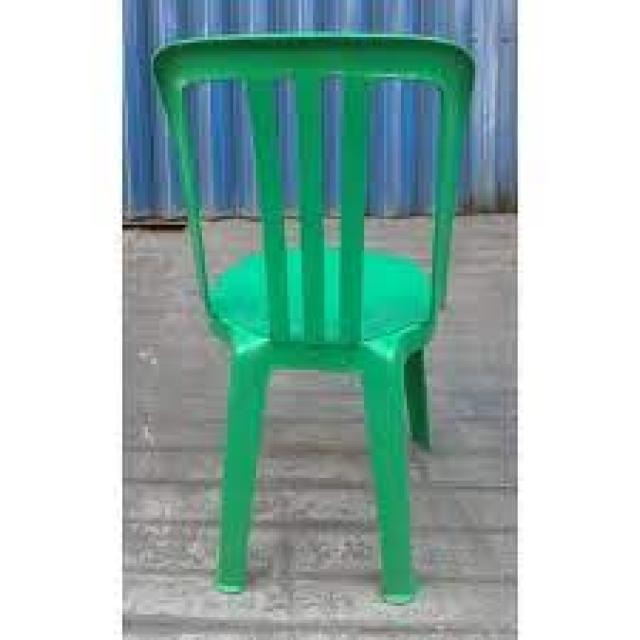chair: (125, 17, 518, 640)
